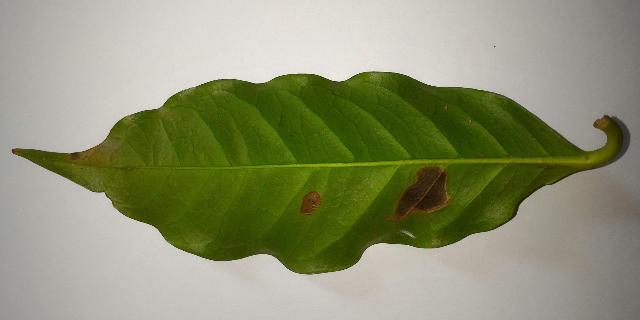cercospora: (385, 167, 450, 224), (300, 191, 321, 215)
